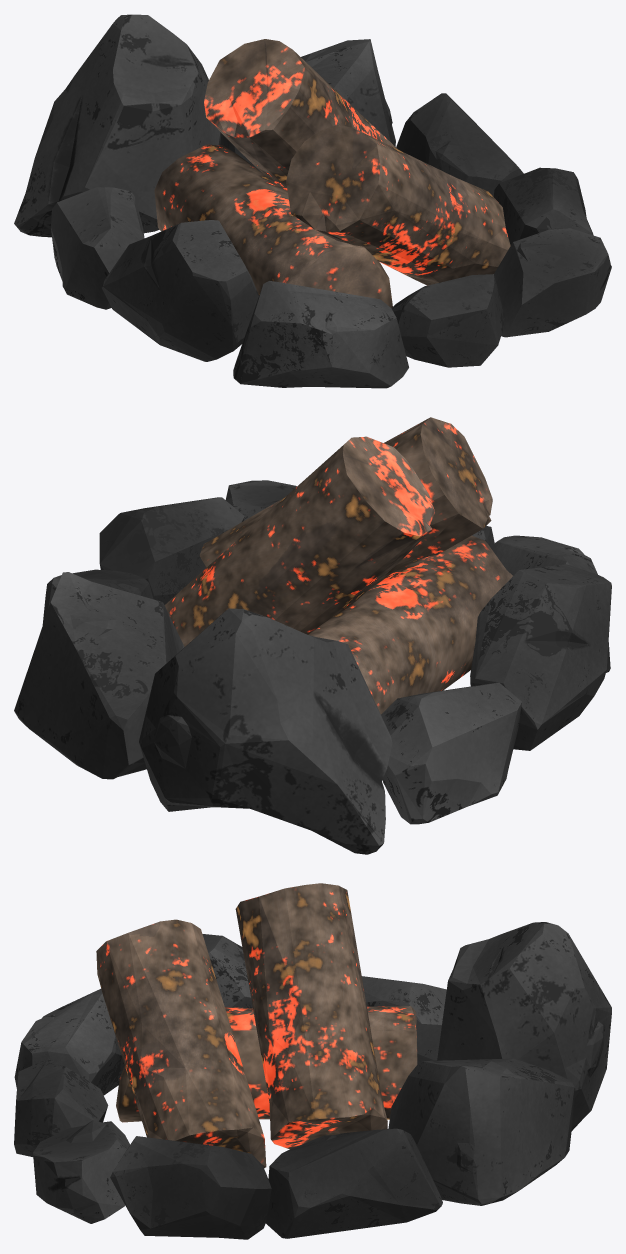
Rendered from campfire.glb.
The picture shows the model from 3 angles, top to bottom: view 1: azimuth 30°, elevation 25°; view 2: azimuth 150°, elevation 25°; view 3: azimuth 270°, elevation 25°; orthographic projection. The views are drawn at different scales.
Parts seen in each view (by area): view 1: campfire_model:subtool14; view 2: campfire_model:subtool14; view 3: campfire_model:subtool14.
Part boxes in pixels (x1,y1,x2,y2): campfire_model:subtool14: (14, 14, 611, 388); campfire_model:subtool14: (14, 417, 611, 854); campfire_model:subtool14: (14, 883, 611, 1239).
Size of the model in its own units: 8.91 by 4.86 by 10.46.
3 materials, 3 textured.
